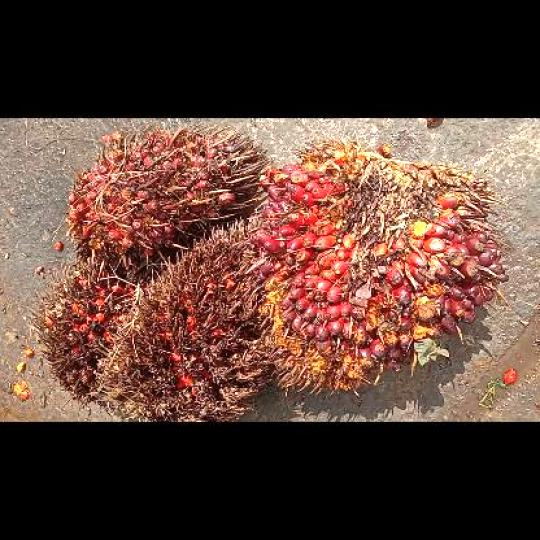masak: (234, 135, 508, 396), (64, 121, 268, 279)
terlalu masak: (92, 216, 274, 420), (26, 249, 152, 410)
